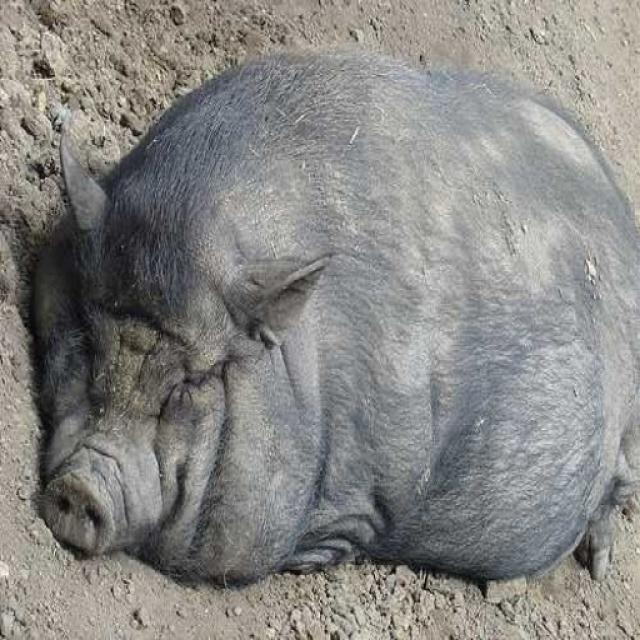pig: (18, 16, 640, 609)
